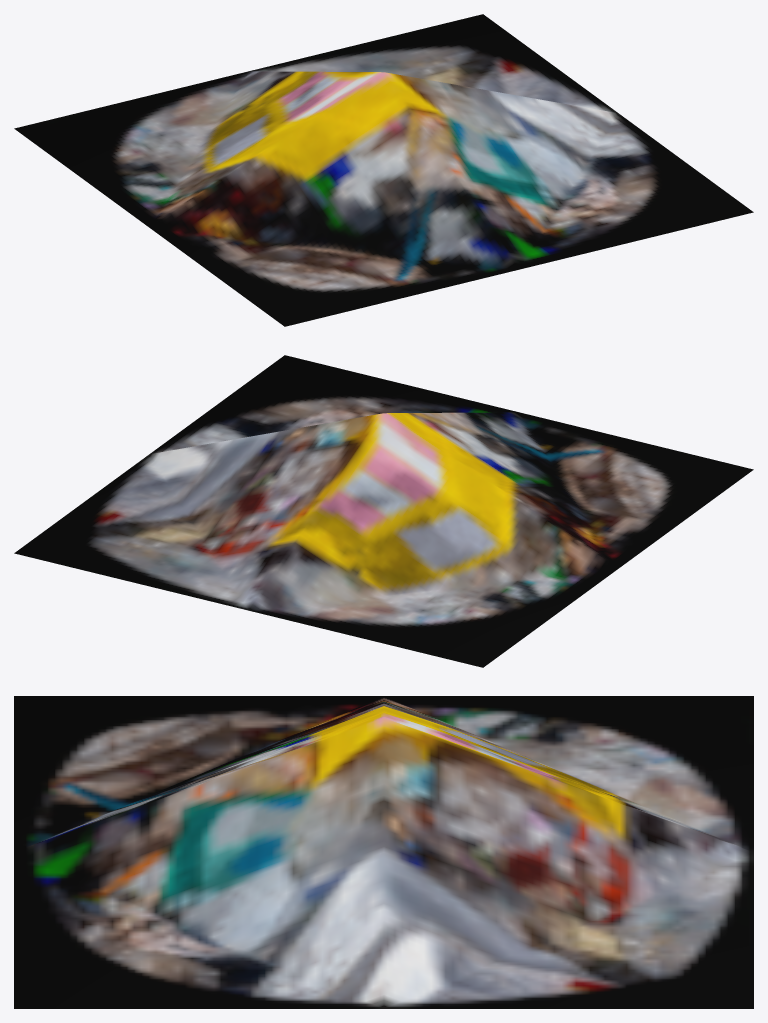
The model's file is Trash.glb.
3 renders of one model, top to bottom at view 1: azimuth 30°, elevation 25°; view 2: azimuth 150°, elevation 25°; view 3: azimuth 270°, elevation 25°, orthographic. The views are drawn at different scales.
Parts seen in each view (by area): view 1: Trash.001; view 2: Trash.001; view 3: Trash.001.
Boxes of the visible parts, bbox=[...] form: Trash.001: bbox=[14, 14, 753, 326]; Trash.001: bbox=[14, 355, 753, 667]; Trash.001: bbox=[14, 696, 753, 1008].
Size of the model in its own units: 0.4751 by 0.0951 by 0.4751.
Materials: 1 (1 with a texture image).
